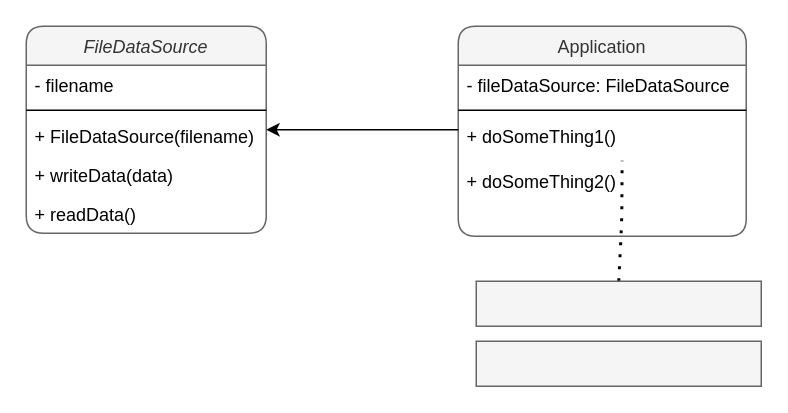
Image size: 788x413. Some labels were removed from this diagram. The shapes that lost their labels are listed below. From the top down, each one's box as (x1, y1, x2, y2) in pixels, then its label:
(475, 280, 761, 326): dataSource.writeData("output.txt")
(475, 340, 761, 386): dataSource.readData("output.txt")
